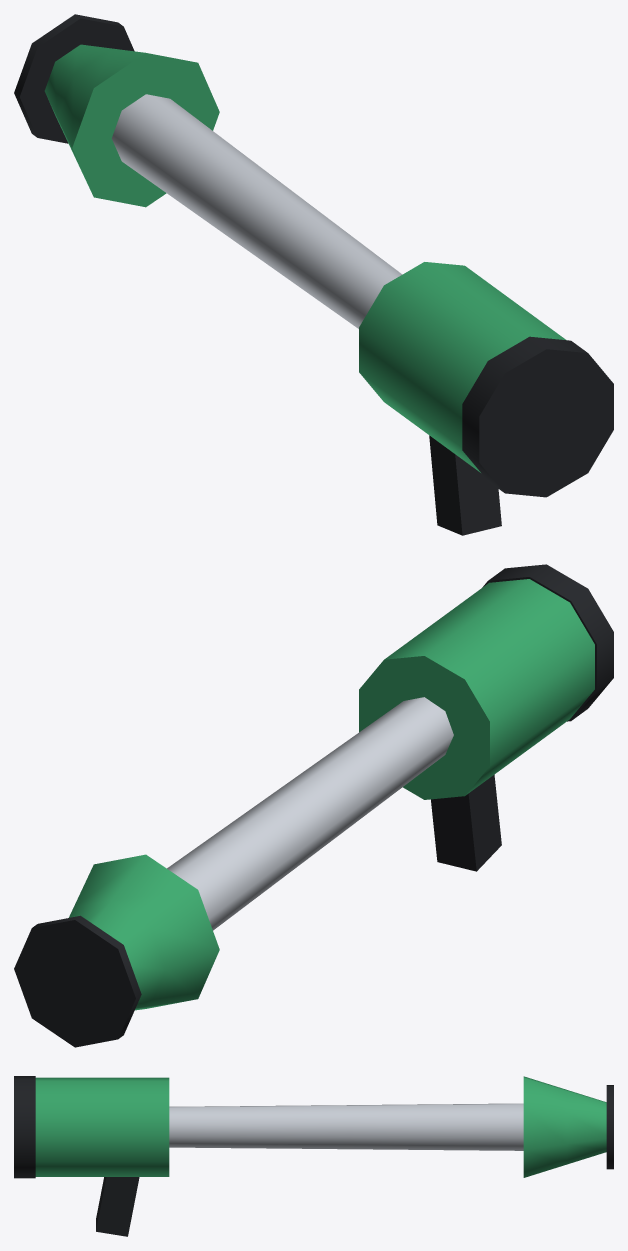
The model's file is tool_vacuum.glb.
3 renders of one model, top to bottom at view 1: azimuth 30°, elevation 25°; view 2: azimuth 150°, elevation 25°; view 3: azimuth 270°, elevation 25°, orthographic. The views are drawn at different scales.
Visible parts, largest first — view 1: _MeshInstance3D_1164, _MeshInstance3D_1158, _MeshInstance3D_1159, _MeshInstance3D_1165, _MeshInstance3D_1166, _MeshInstance3D_1157; view 2: _MeshInstance3D_1158, _MeshInstance3D_1164, _MeshInstance3D_1165, _MeshInstance3D_1166, _MeshInstance3D_1157, _MeshInstance3D_1159; view 3: _MeshInstance3D_1164, _MeshInstance3D_1158, _MeshInstance3D_1165, _MeshInstance3D_1159, _MeshInstance3D_1157, _MeshInstance3D_1166.
Part boxes in pixels (x1,y1,x2,y2): _MeshInstance3D_1164: (111, 94, 401, 328); _MeshInstance3D_1158: (359, 262, 566, 472); _MeshInstance3D_1159: (462, 336, 613, 497); _MeshInstance3D_1165: (44, 44, 219, 207); _MeshInstance3D_1166: (14, 14, 134, 143); _MeshInstance3D_1157: (429, 435, 501, 535); _MeshInstance3D_1158: (359, 579, 594, 799); _MeshInstance3D_1164: (167, 697, 453, 930); _MeshInstance3D_1165: (69, 854, 219, 1010); _MeshInstance3D_1166: (14, 915, 141, 1047); _MeshInstance3D_1157: (431, 774, 501, 871); _MeshInstance3D_1159: (482, 564, 613, 721); _MeshInstance3D_1164: (169, 1103, 523, 1150); _MeshInstance3D_1158: (35, 1077, 169, 1176); _MeshInstance3D_1165: (523, 1076, 606, 1177); _MeshInstance3D_1159: (14, 1076, 35, 1178); _MeshInstance3D_1157: (96, 1177, 139, 1236); _MeshInstance3D_1166: (606, 1085, 613, 1169).
Size of the model in its own units: 0.15 by 0.2331 by 0.83.
